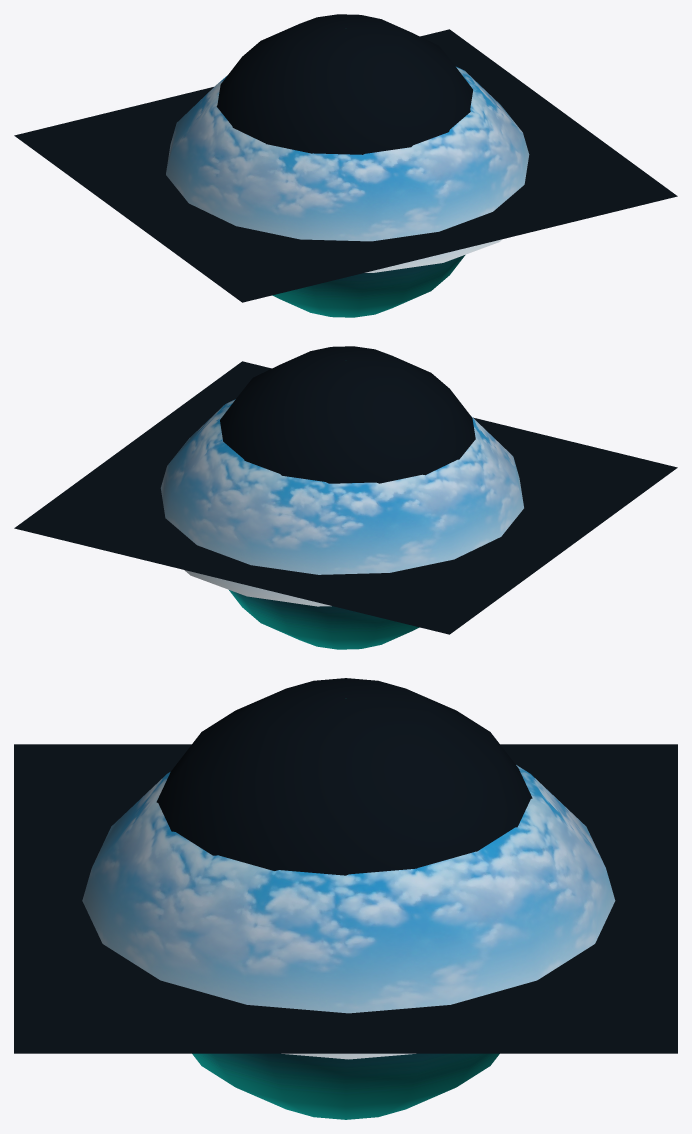
Rendered from BattleArea_Dun0060002.fbx.
3 views of the same model, one above another, from view 1: azimuth 30°, elevation 25°; view 2: azimuth 150°, elevation 25°; view 3: azimuth 270°, elevation 25° (orthographic). The views are drawn at different scales.
Parts seen in each view (by area): view 1: skillbg_02, sky_01_001, skillbg_01; view 2: skillbg_02, sky_01_001, skillbg_01; view 3: skillbg_02, sky_01_001, skillbg_01.
Part boxes in pixels (x1,y1,x2,y2): skillbg_02: (14,29,677,302); sky_01_001: (166,66,529,272); skillbg_01: (216,14,472,317); skillbg_02: (14,361,677,634); sky_01_001: (160,399,523,606); skillbg_01: (220,346,475,649); skillbg_02: (14,744,677,1053); sky_01_001: (82,765,615,1059); skillbg_01: (156,678,532,1119).
Bounding box in the file's own units: 310 × 187 × 281.
